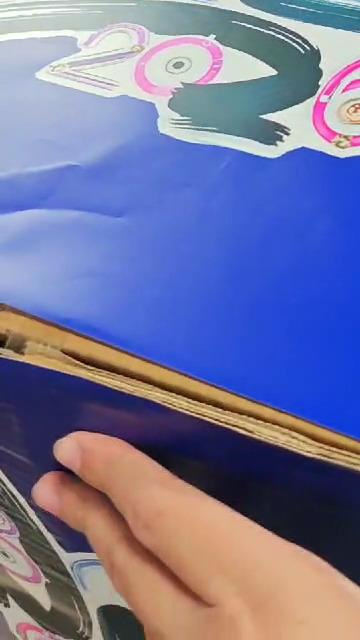B_R1: (1, 0, 360, 175)
